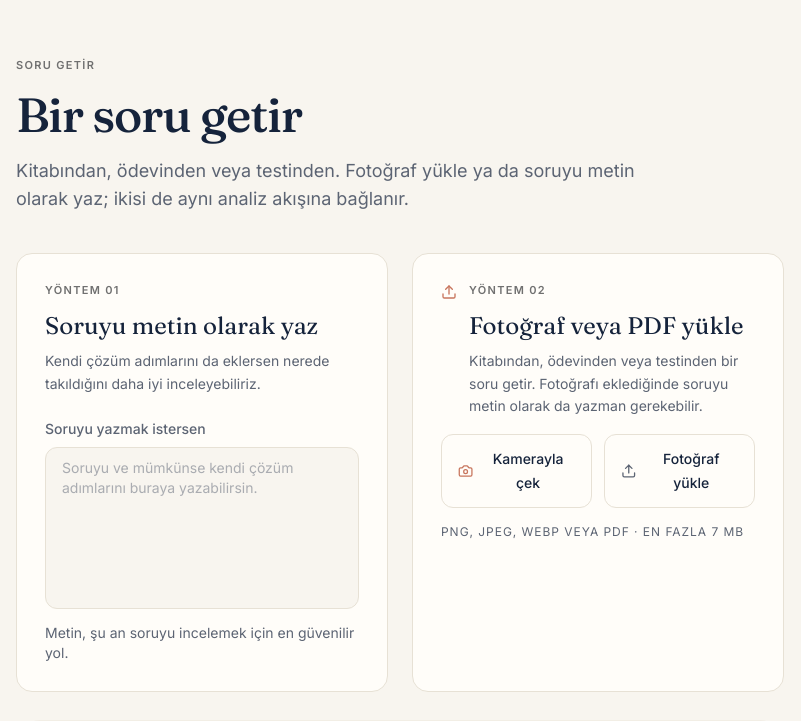
Test: SoruGetir › never exposes backend or provider internals in an error state
Type "Bir soru" into the text box labelled "Soruyu yazmak istersen" at coordinates (202, 528), box [45, 447, 359, 609]
(page scrolled)
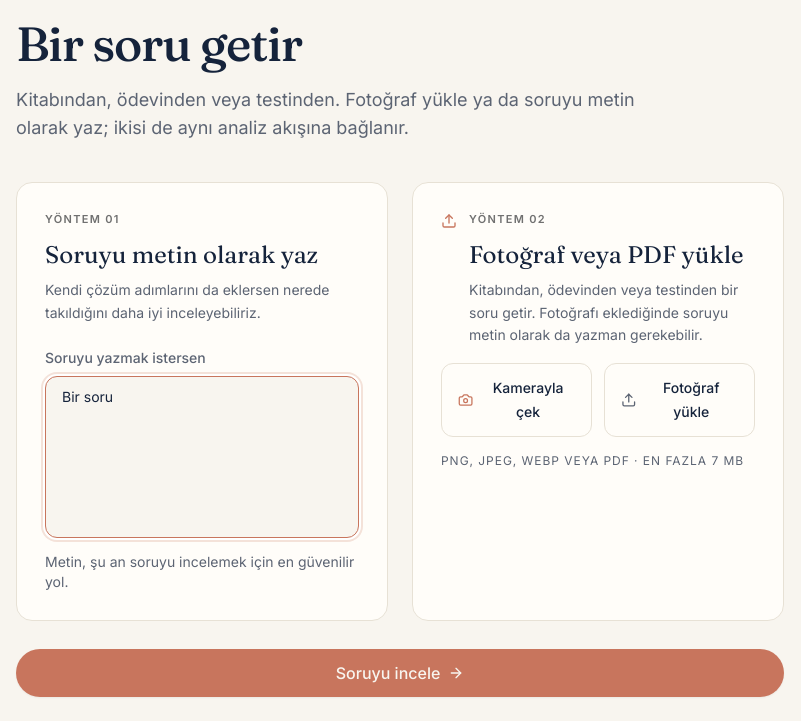
Click the button "Soruyu incele" at coordinates (400, 673), box [16, 649, 784, 697]
(page scrolled)
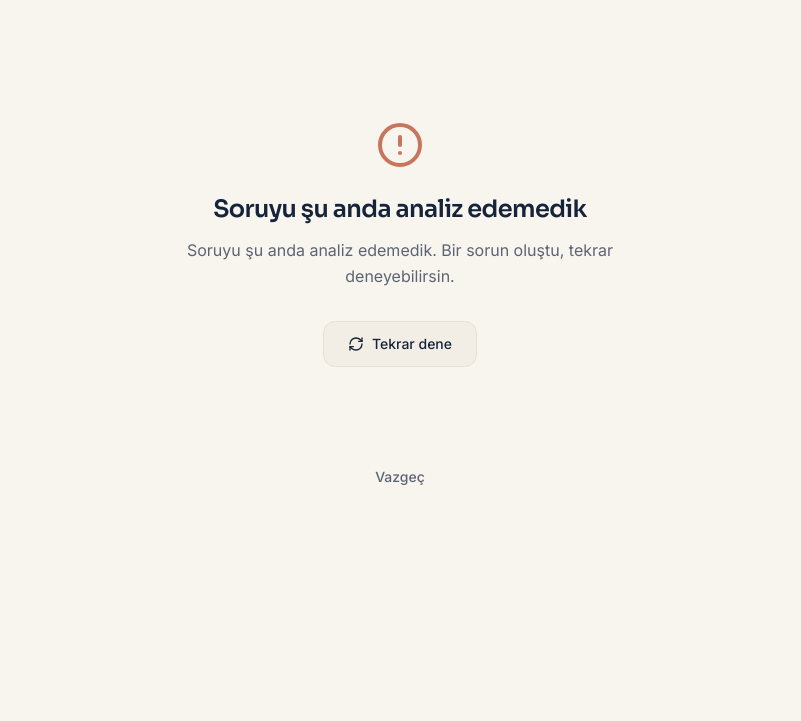
Expected: the heading "Soruyu şu anda analiz edemedik" is shown, [213, 193, 587, 225]
